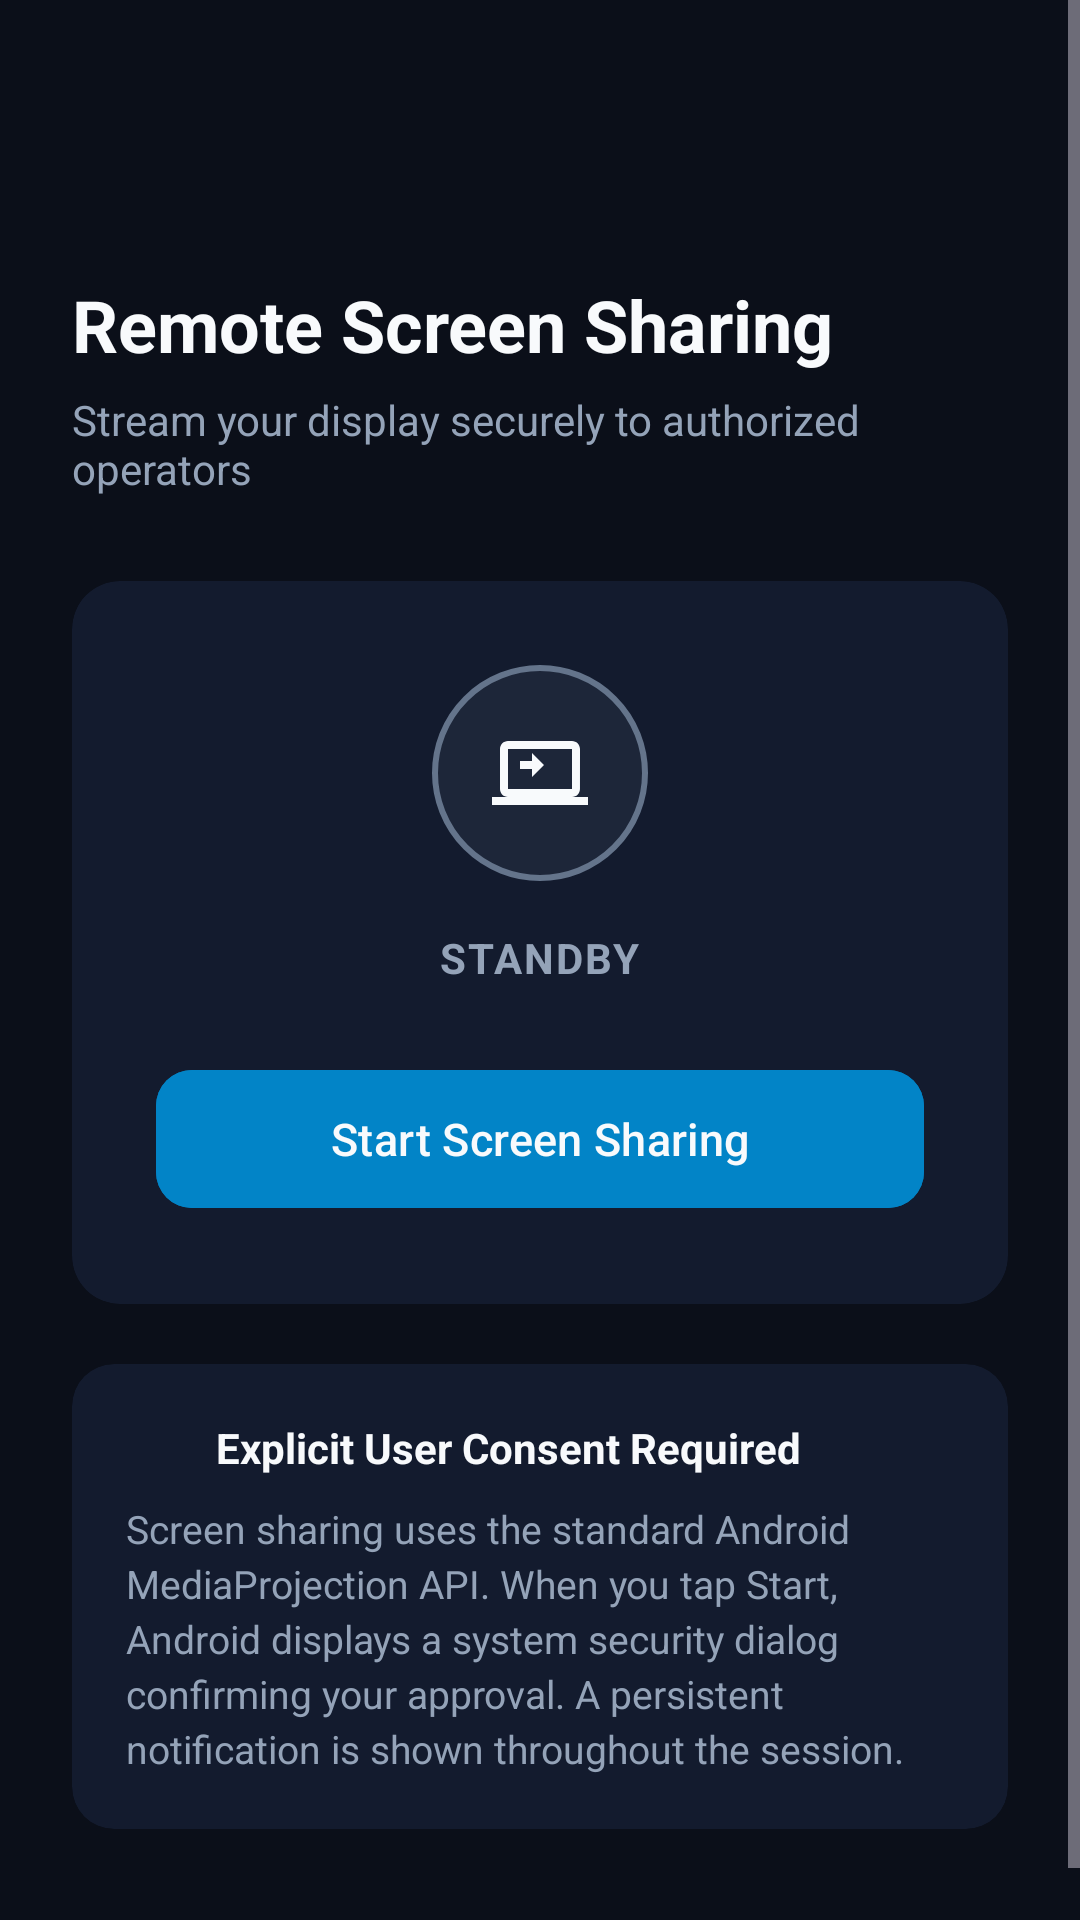

Icons on this 1080w x 1920h Android screen, each with the point to tap as point (x, y):
screen share: point (540, 773)
